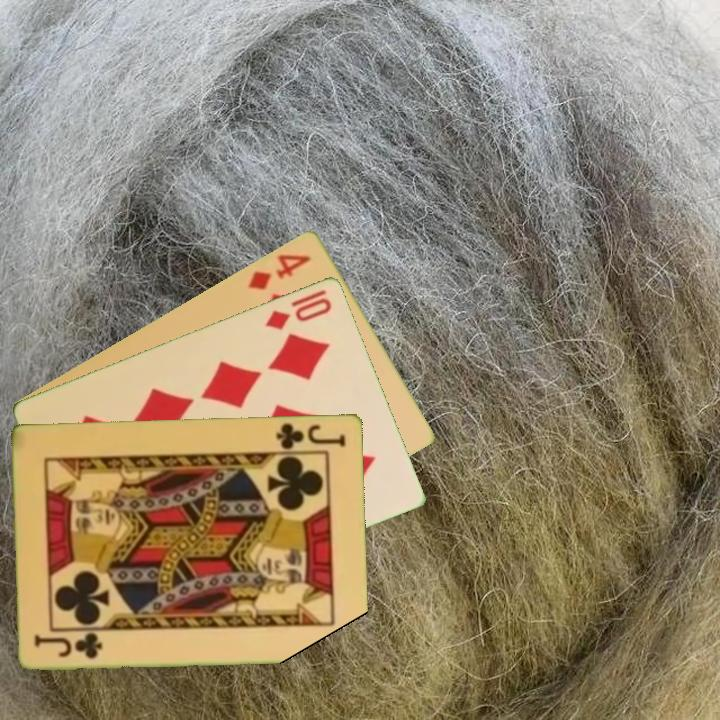10d: (262, 293, 335, 332)
4d: (244, 250, 314, 293)
Jc: (273, 419, 349, 452), (31, 630, 106, 661)
